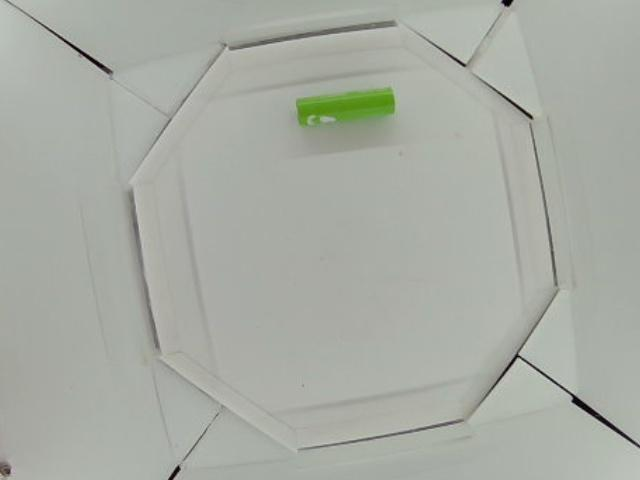Battery: (295, 87, 396, 123)
